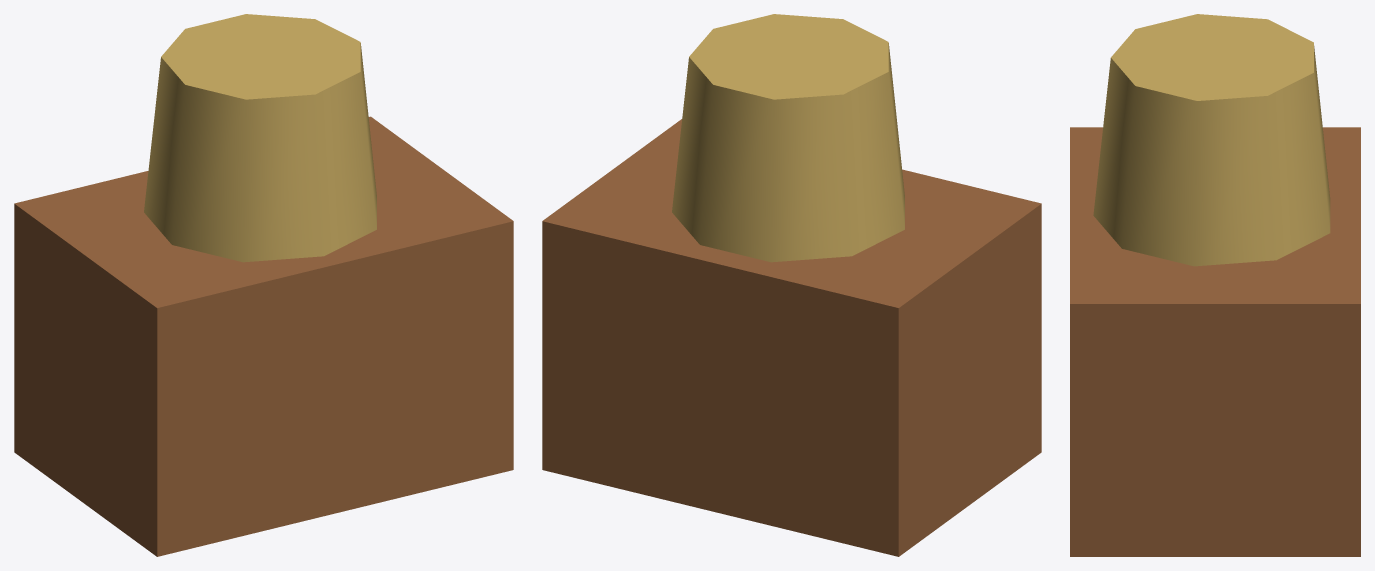
Rendered from dock_console.glb.
The picture shows the model from 3 angles, left to right: view 1: azimuth 30°, elevation 25°; view 2: azimuth 150°, elevation 25°; view 3: azimuth 270°, elevation 25°; orthographic projection.
Visible parts, largest first — view 1: dock_base, dock_detail; view 2: dock_base, dock_detail; view 3: dock_base, dock_detail.
Part boxes in pixels (x1=…): dock_base: x1=14, y1=116, x2=513, y2=556; dock_detail: x1=144, y1=14, x2=376, y2=262; dock_base: x1=542, y1=119, x2=1041, y2=556; dock_detail: x1=672, y1=14, x2=904, y2=262; dock_base: x1=1070, y1=127, x2=1360, y2=556; dock_detail: x1=1093, y1=14, x2=1330, y2=266.
Size of what is drawn, in the model's own units: 1.8 by 1.95 by 1.25.
